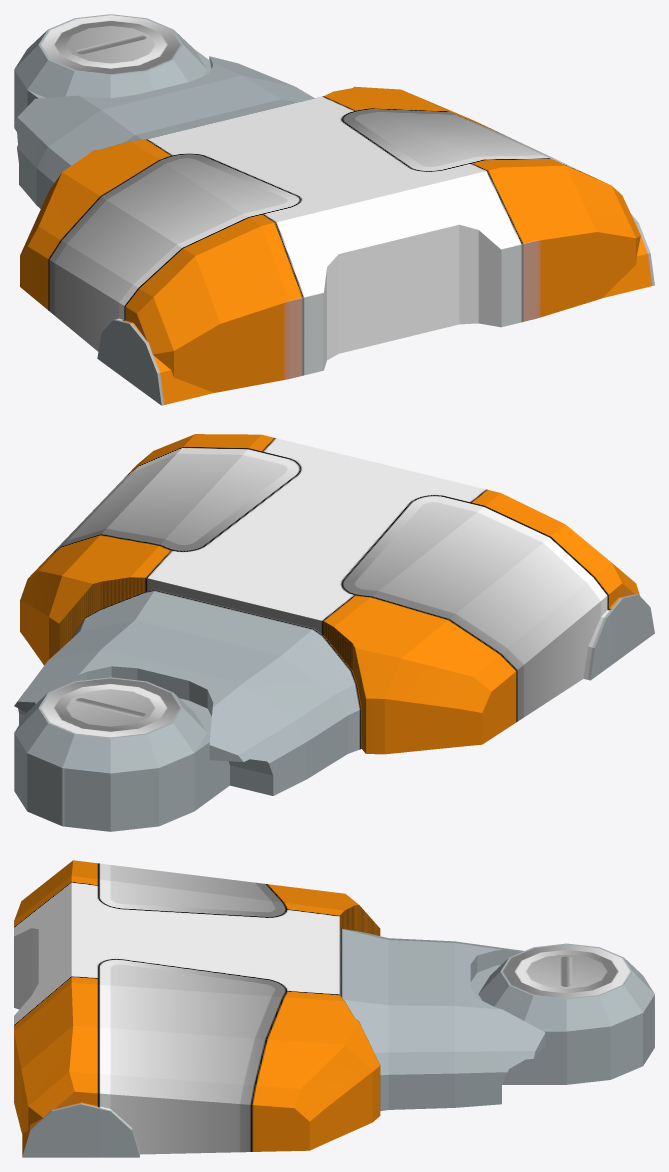
Rendered from JVRC-1-shape-36.dae.
3 views of the same model, one above another, from view 1: azimuth 30°, elevation 25°; view 2: azimuth 150°, elevation 25°; view 3: azimuth 270°, elevation 25° (orthographic). The views are drawn at different scales.
Parts seen in each view (by area): view 1: root; view 2: root; view 3: root.
Part boxes in pixels (x1,y1,x2,y2): root: (14, 14, 654, 405); root: (14, 434, 654, 831); root: (14, 860, 654, 1157).
Bounding box in the file's own units: 35.4 × 8.86 × 43.53.
1 material, 1 textured.
